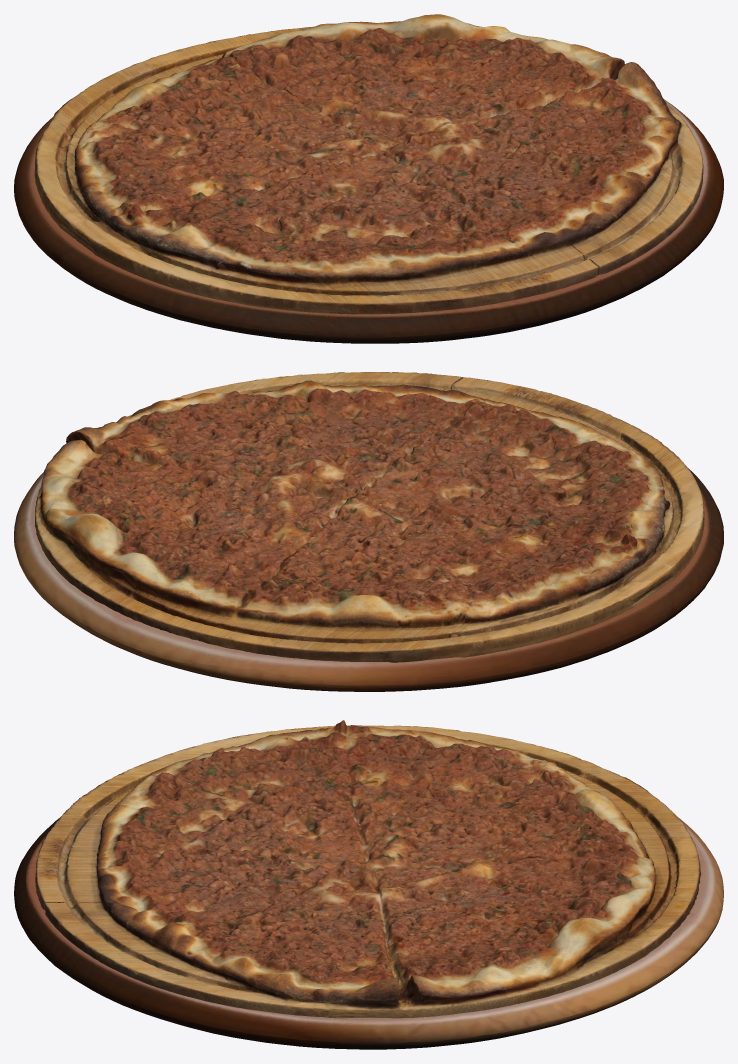
File: Armenian.lahmajoon.01.glb
3 views of the same model, one above another, from view 1: azimuth 30°, elevation 25°; view 2: azimuth 150°, elevation 25°; view 3: azimuth 270°, elevation 25° (orthographic).
Parts seen in each view (by area): view 1: /Root/Scenes/Scene/Object_37/Object_38/Submesh_0, /Root/Scenes/Scene/Object_37/Object_41/Object_42/Submesh_0; view 2: /Root/Scenes/Scene/Object_37/Object_38/Submesh_0, /Root/Scenes/Scene/Object_37/Object_41/Object_42/Submesh_0; view 3: /Root/Scenes/Scene/Object_37/Object_38/Submesh_0, /Root/Scenes/Scene/Object_37/Object_41/Object_42/Submesh_0.
Part boxes in pixels (box(x1,y1,x2,y2)): /Root/Scenes/Scene/Object_37/Object_38/Submesh_0: box(34, 14, 703, 314); /Root/Scenes/Scene/Object_37/Object_41/Object_42/Submesh_0: box(14, 99, 723, 343); /Root/Scenes/Scene/Object_37/Object_38/Submesh_0: box(35, 372, 704, 662); /Root/Scenes/Scene/Object_37/Object_41/Object_42/Submesh_0: box(14, 468, 723, 691); /Root/Scenes/Scene/Object_37/Object_38/Submesh_0: box(35, 720, 701, 1018); /Root/Scenes/Scene/Object_37/Object_41/Object_42/Submesh_0: box(14, 816, 723, 1049).
Bounding box in the file's own units: 0.3072 × 0.0321 × 0.3072.
2 materials, 2 textured.
